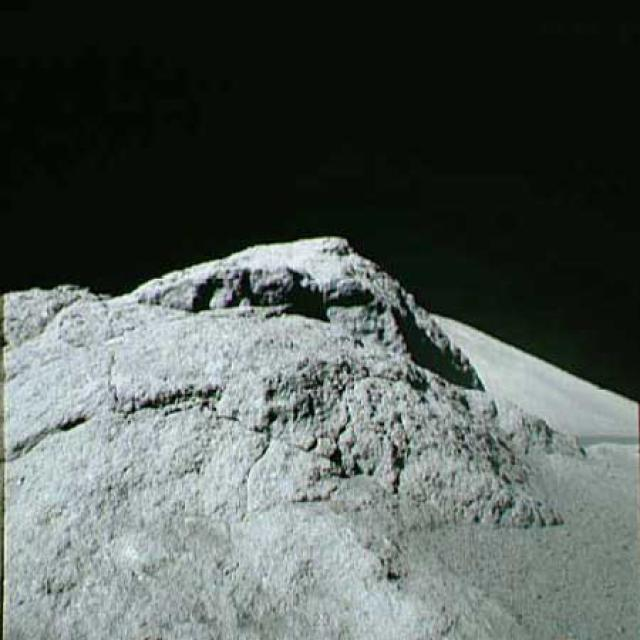rock: (0, 222, 590, 638)
